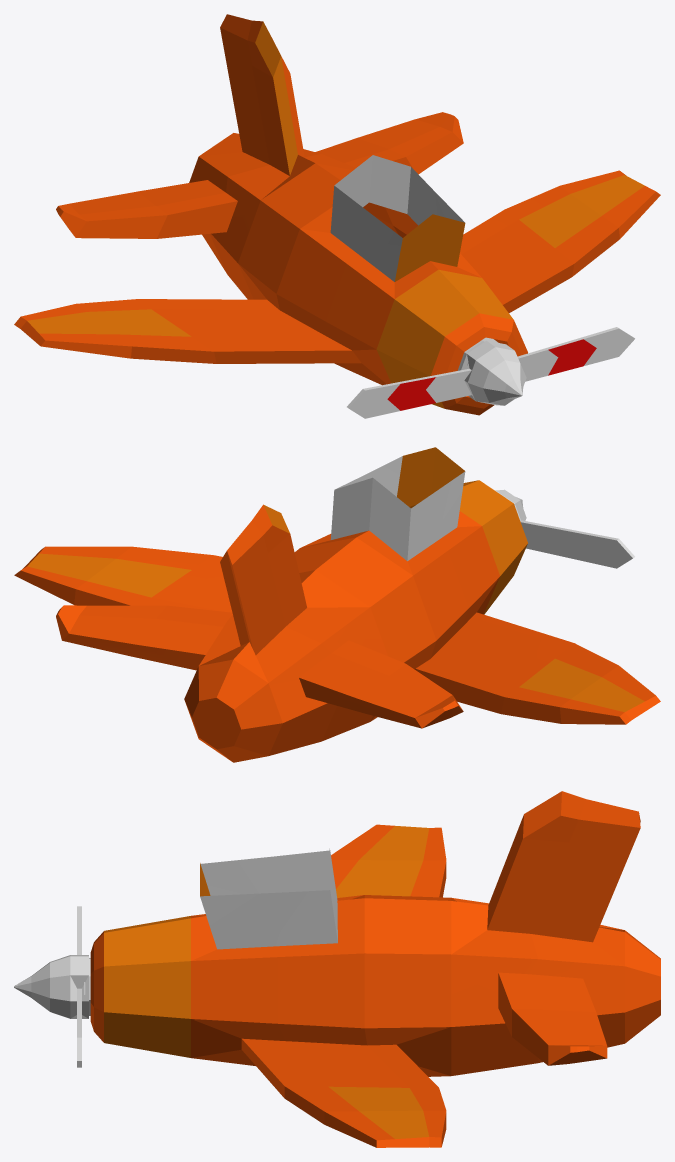
Rendered from New New Plane Changes.fbx.
3 renders of one model, top to bottom at view 1: azimuth 30°, elevation 25°; view 2: azimuth 150°, elevation 25°; view 3: azimuth 270°, elevation 25°, orthographic. The views are drawn at different scales.
Parts seen in each view (by area): view 1: Cylinder.002, Cylinder.001; view 2: Cylinder.002, Cylinder.001; view 3: Cylinder.002, Cylinder.001.
Boxes of the visible parts, <box> form: Cylinder.002: <box>14,14,660,415</box>; Cylinder.001: <box>347,327,634,418</box>; Cylinder.002: <box>14,447,660,762</box>; Cylinder.001: <box>495,489,634,568</box>; Cylinder.002: <box>90,791,660,1147</box>; Cylinder.001: <box>14,906,90,1067</box>.
Size of the model in its own units: 1003 by 415 by 855.
